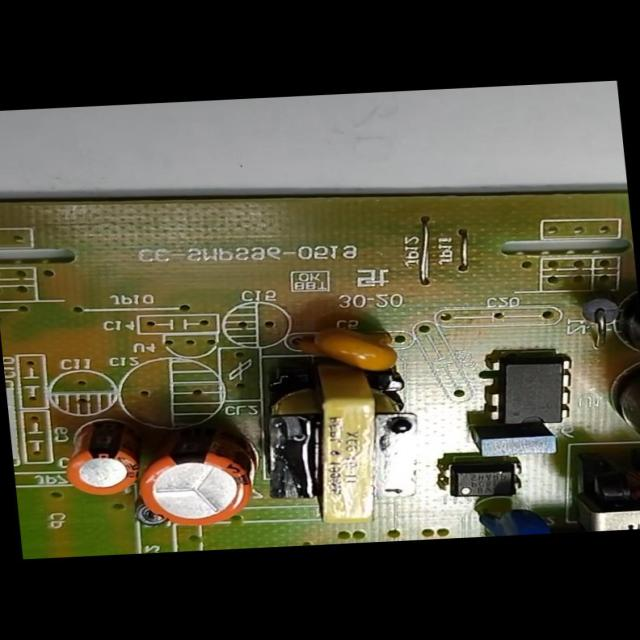Cap1: (136, 422, 255, 528)
Cap2: (66, 420, 142, 498)
Cap3: (611, 391, 639, 472)
MOSFET: (484, 356, 576, 426)
Mov: (482, 502, 554, 536)
Transformer: (247, 366, 430, 530), (584, 473, 640, 532)
